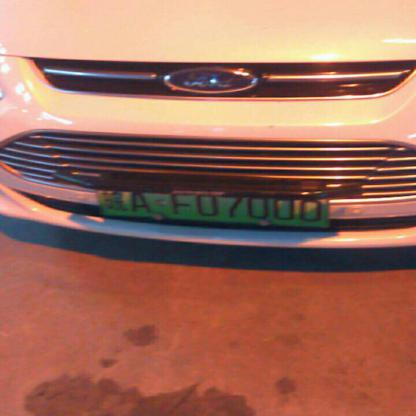lp: (95, 190, 328, 227)
